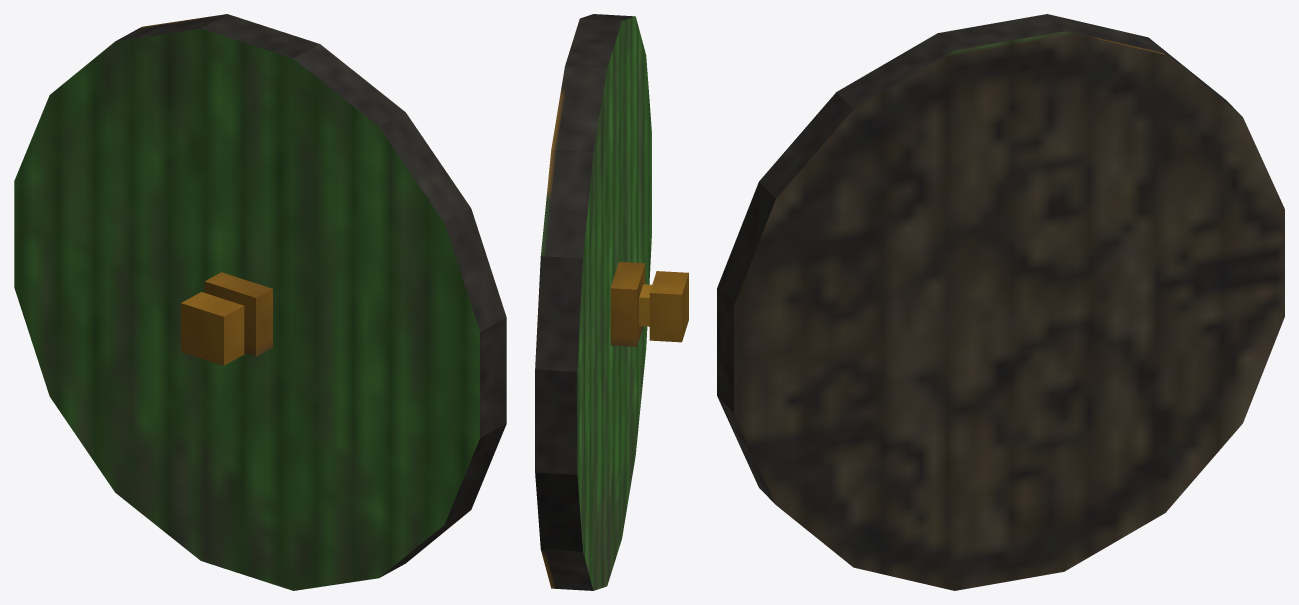
The model's file is hobbit_door_3x3_green_open.obj.
3 renders of one model, left to right at view 1: azimuth 30°, elevation 25°; view 2: azimuth 150°, elevation 25°; view 3: azimuth 270°, elevation 25°, orthographic. The views are drawn at different scales.
Parts seen in each view (by area): view 1: cylinder, cube; view 2: cylinder, cube; view 3: cylinder.
Boxes of the visible parts, box(x1,y1,x2,y2) form: cylinder: box(14, 14, 506, 590); cube: box(181, 272, 272, 365); cylinder: box(535, 14, 651, 590); cube: box(610, 262, 688, 346); cylinder: box(717, 14, 1284, 590).
Size of the model in its own units: 1.16 by 2.57 by 2.44.
